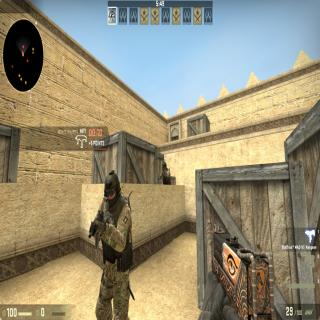CT-Body: (89, 167, 134, 320), (158, 161, 173, 187)
CT-Head: (102, 168, 121, 208), (161, 161, 167, 172)
